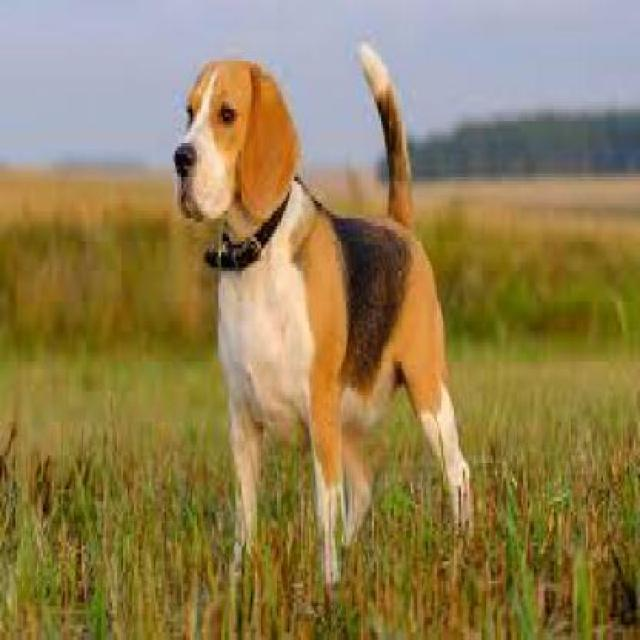Dog: (169, 40, 485, 589)
